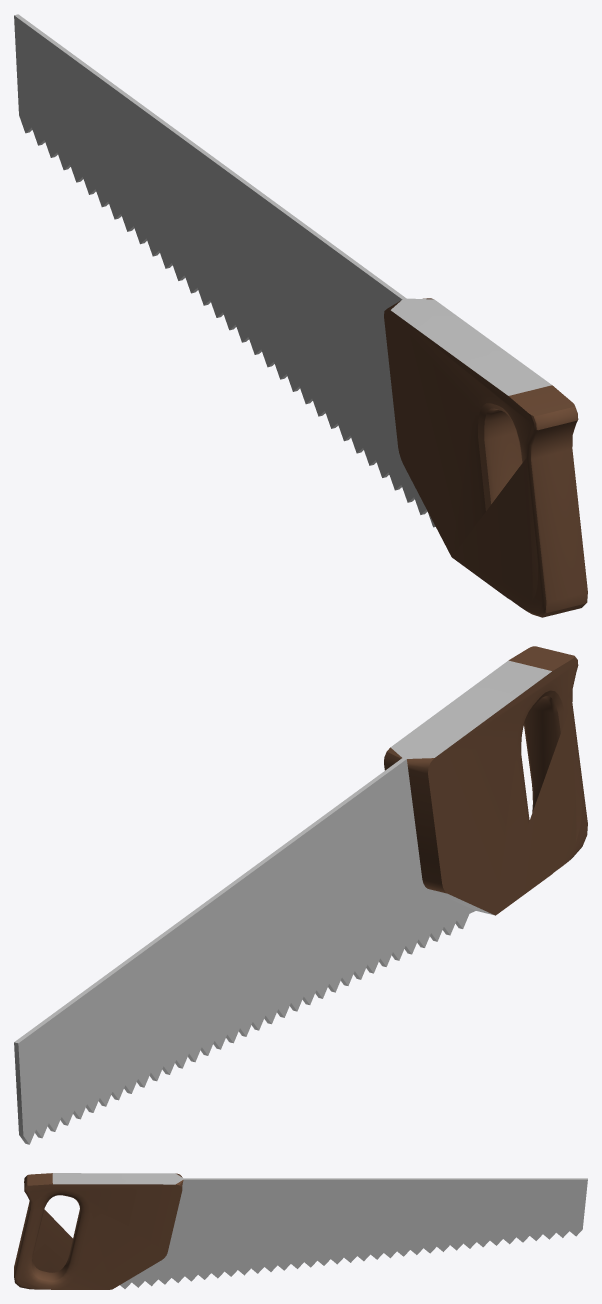
File: saw.fbx
3 renders of one model, top to bottom at view 1: azimuth 30°, elevation 25°; view 2: azimuth 150°, elevation 25°; view 3: azimuth 270°, elevation 25°, orthographic. The views are drawn at different scales.
Parts seen in each view (by area): view 1: Cube; view 2: Cube; view 3: Cube.
Boxes of the visible parts, box(x1,y1,x2,y2) form: Cube: box(14, 14, 587, 617); Cube: box(14, 646, 587, 1144); Cube: box(14, 1173, 587, 1289).
Bounding box in the file's own units: 16.75 × 76.98 × 363.
